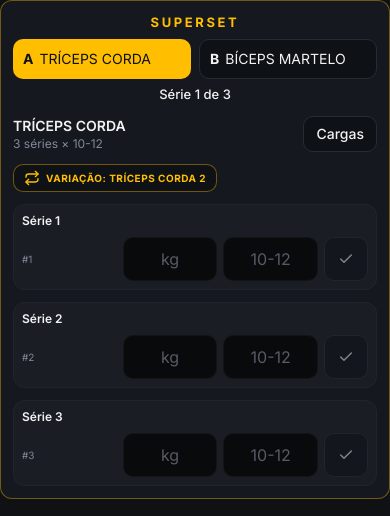
it: Modo Treino admin — variation button on a superset › no button when the exercise has no variation in the plan
Click the text "BÍCEPS MARTELO" at (296, 58), box [225, 48, 366, 68]
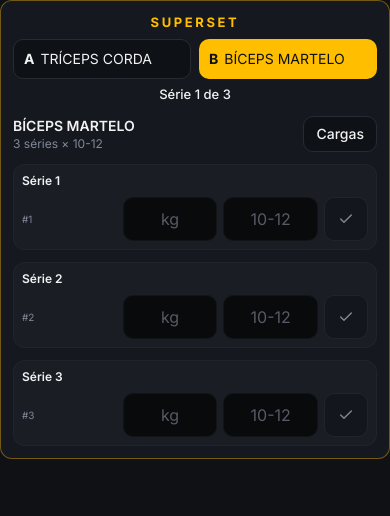
Now the button "Variação:" is gone
